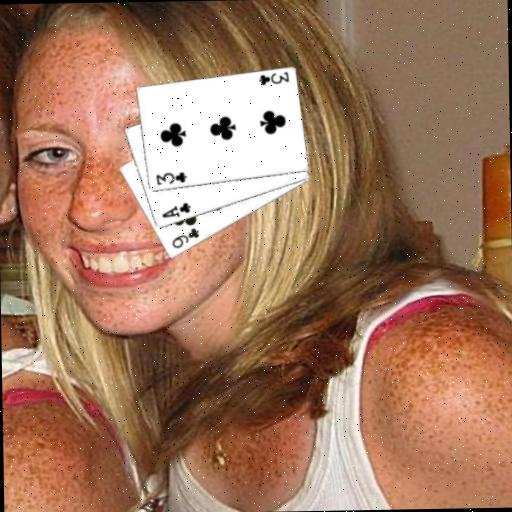3C: (153, 169, 188, 187), (255, 69, 290, 87)
9C: (169, 225, 201, 251)
AC: (158, 200, 192, 220)
